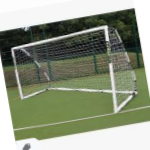goals: (10, 25, 142, 115)
